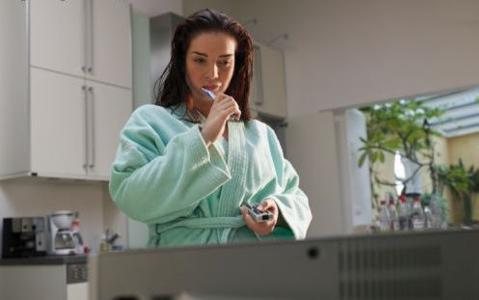person: (108, 10, 315, 249)
